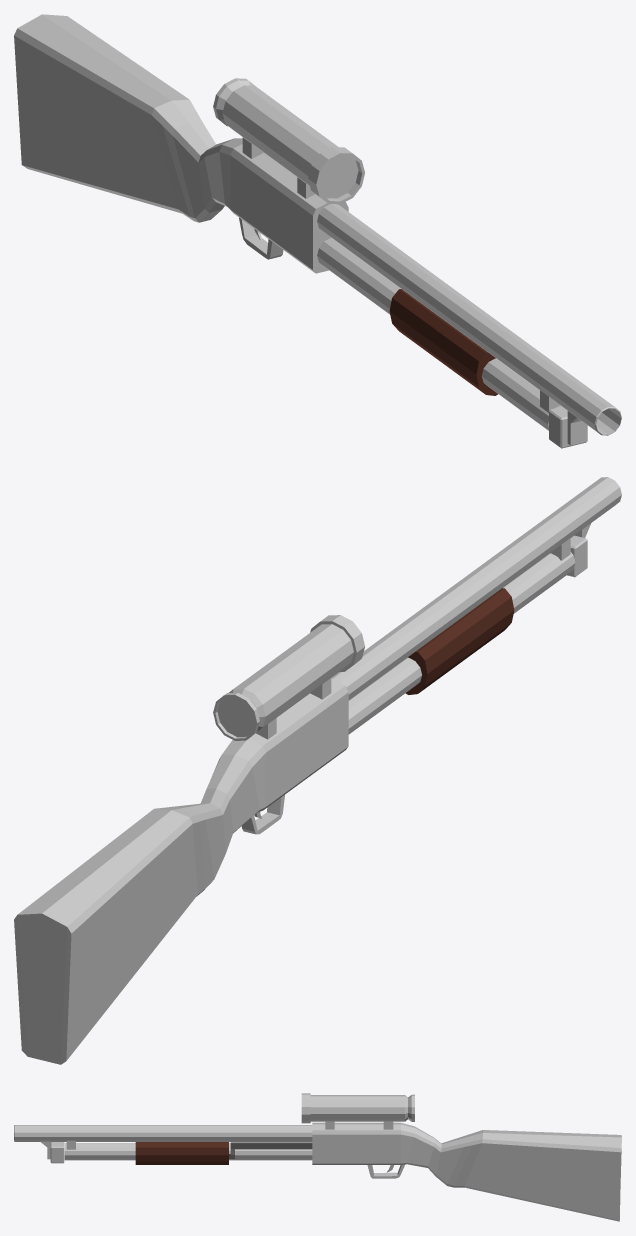
Rendered from Rifle.obj.
3 renders of one model, top to bottom at view 1: azimuth 30°, elevation 25°; view 2: azimuth 150°, elevation 25°; view 3: azimuth 270°, elevation 25°, orthographic. The views are drawn at different scales.
Visible parts, largest first — view 1: Rifle; view 2: Rifle; view 3: Rifle.
Boxes of the visible parts, left/top/right/bottom form: Rifle: left=14, top=14, right=621, bottom=448; Rifle: left=14, top=477, right=621, bottom=1064; Rifle: left=14, top=1093, right=621, bottom=1221.
Size of the model in its own units: 0.5468 by 2.08 by 9.34.
